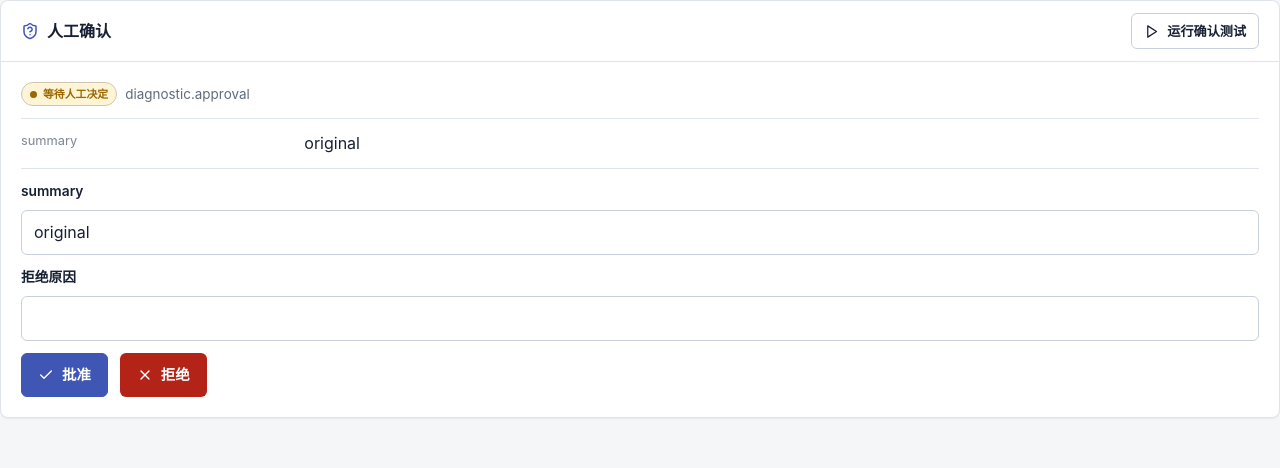
Test case: ActionCenter › requires a rejection reason and sends the decision
Expected: the text "original" is shown, x1=304 y1=133 x2=360 y2=153
Click the button "拒绝": (163, 375) x1=120 y1=353 x2=207 y2=397
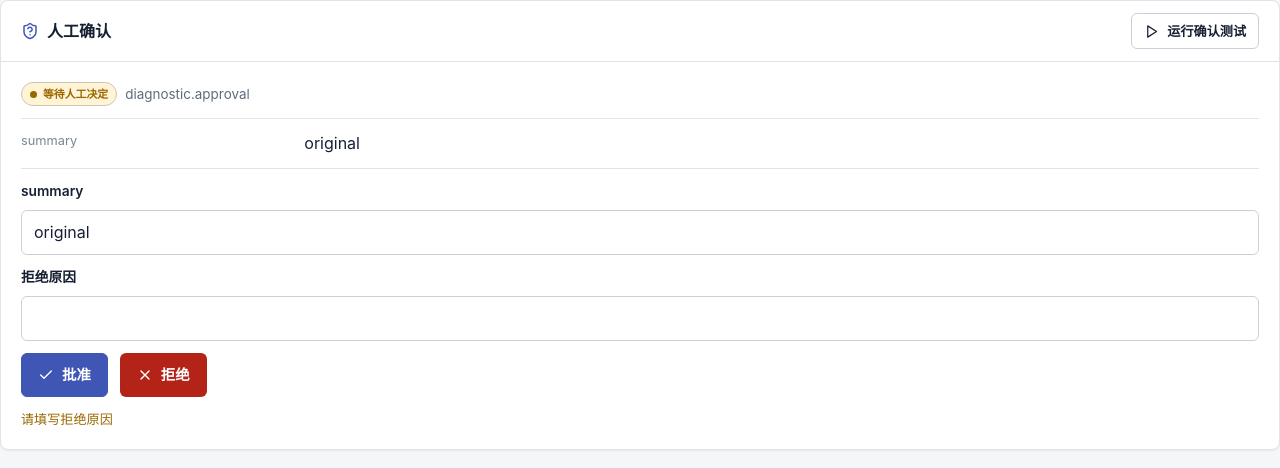
Now the text "请填写拒绝原因" is shown, box x1=21 y1=411 x2=113 y2=427
In the field labelled "拒绝原因": (640, 319) x1=21 y1=296 x2=1259 y2=341, type "不继续"
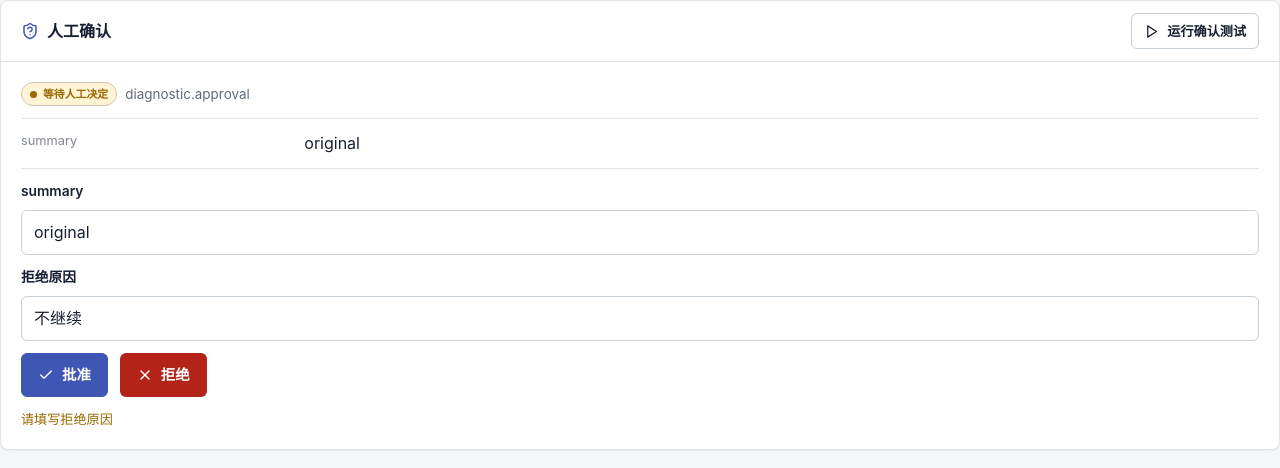
Click the button "拒绝": (163, 375) x1=120 y1=353 x2=207 y2=397
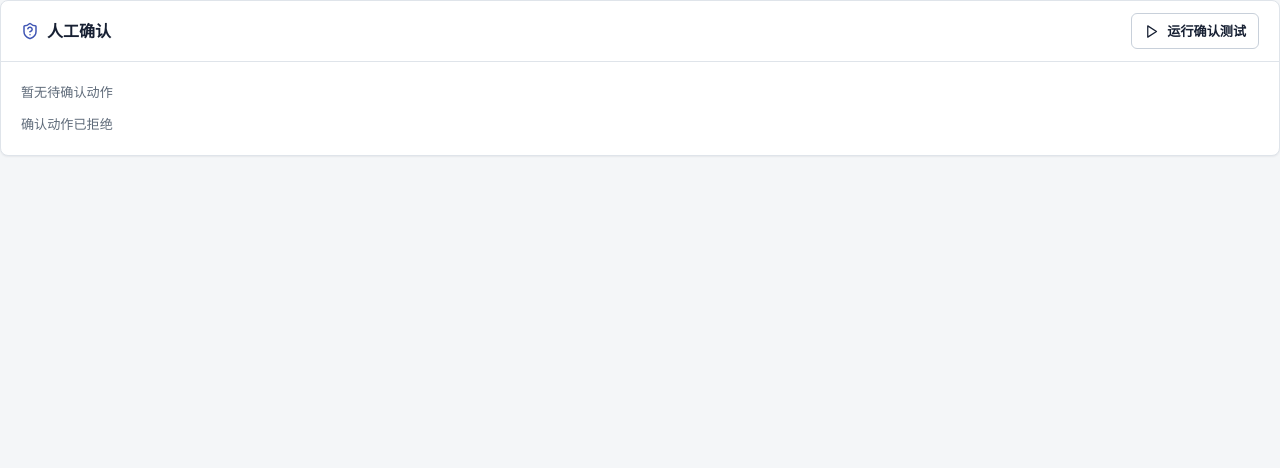
Now the text "确认动作已拒绝" is shown, box x1=21 y1=116 x2=113 y2=132
